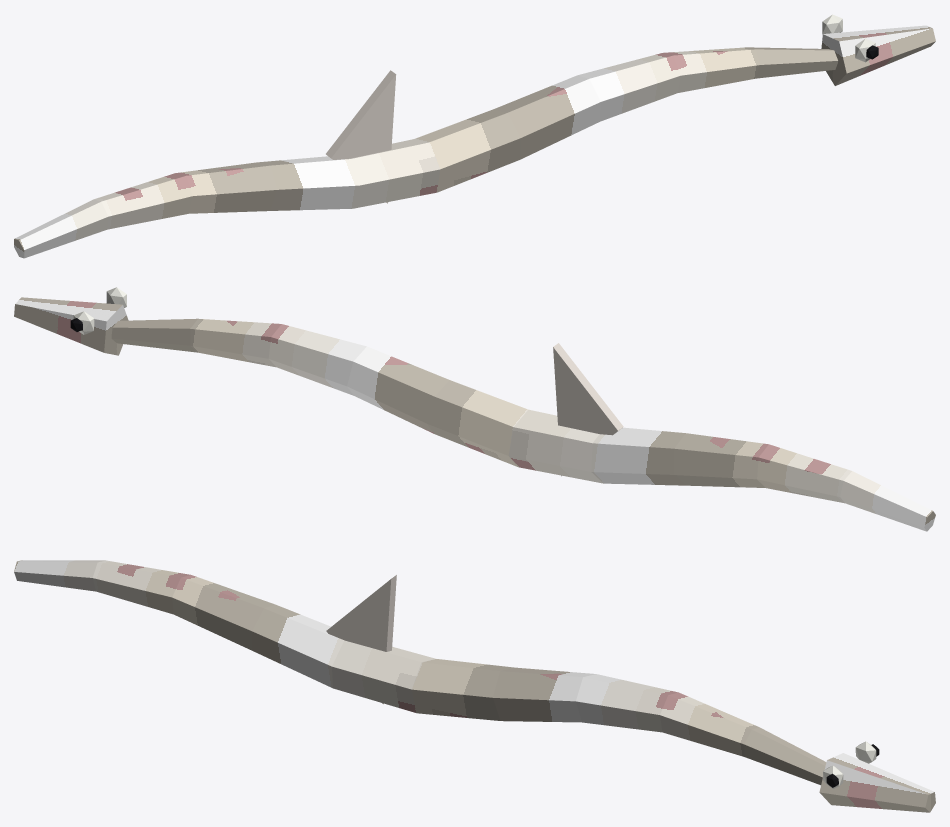
Rendered from ghost_pipefish.glb.
3 renders of one model, top to bottom at view 1: azimuth 30°, elevation 25°; view 2: azimuth 150°, elevation 25°; view 3: azimuth 330°, elevation 25°, orthographic.
Visible parts, largest first — view 1: fish_ghost_pipefish; view 2: fish_ghost_pipefish; view 3: fish_ghost_pipefish.
Part boxes in pixels (x1,y1,x2,y2): fish_ghost_pipefish: (14,14,935,258); fish_ghost_pipefish: (14,287,935,531); fish_ghost_pipefish: (14,560,935,812).
Bounding box in the file's own units: 1.12 × 0.15 × 0.0946.
Materials: 4 (1 with a texture image).
